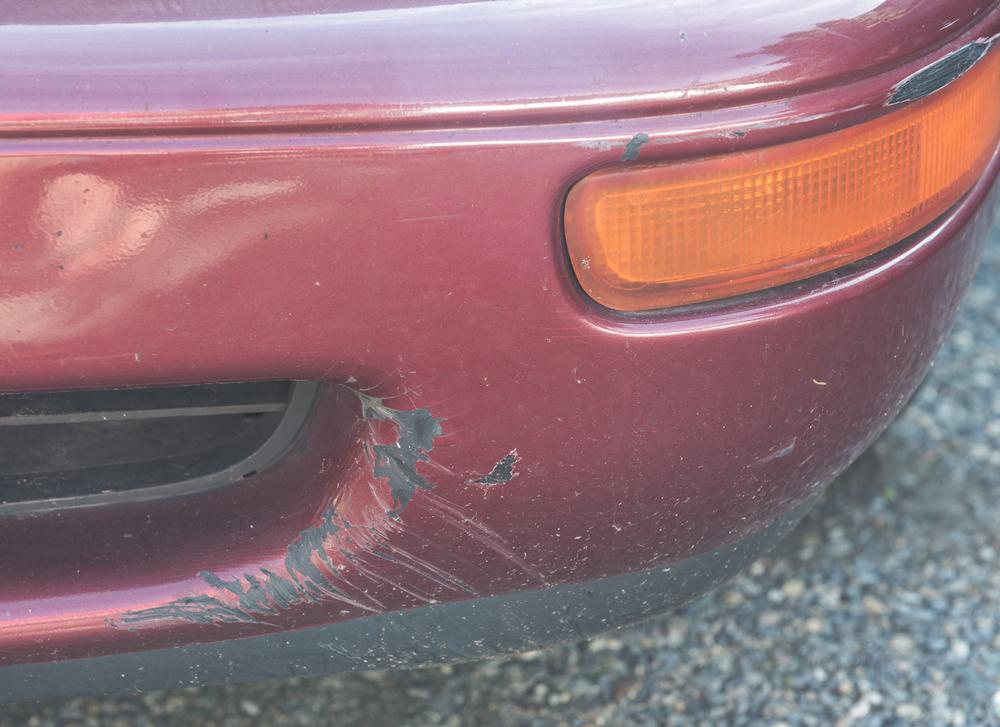scratch: (78, 374, 541, 638), (582, 26, 1000, 162)
